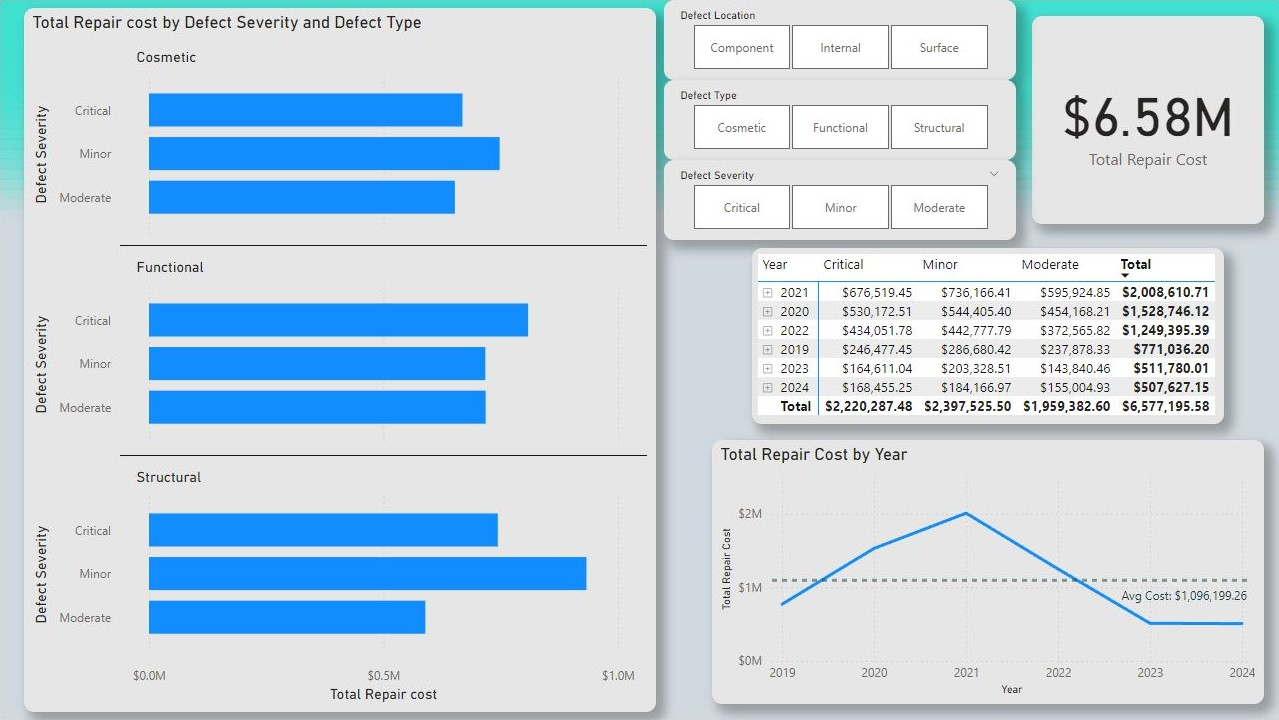

This screenshot's page, from the dashboard's own definition file:
{"tool":"powerbi","page":{"name":"Cost Report","canvas":[1280,720],"ordinal":1},"visuals":[{"type":"clusteredBarChart","fields":{"Category":["defects_data.severity"],"Y":["Sum(defects_data.repair_cost)"],"Rows":["defects_data.defect_type"]},"box":[24,8,632,704],"z":0},{"type":"card","fields":{"Values":["Sum(defects_data.repair_cost)"]},"box":[1032,16,232,208],"z":1000},{"type":"slicer","fields":{"Values":["defects_data.defect_location"]},"box":[664,0,352,80],"z":2000},{"type":"slicer","fields":{"Values":["defects_data.defect_type"]},"box":[664,80,352,80],"z":3000},{"type":"slicer","fields":{"Values":["defects_data.severity"]},"box":[664,160,352,80],"z":4000},{"type":"pivotTable","fields":{"Values":["Sum(defects_data.repair_cost)"],"Rows":["defects_data.defect_date.Variation.Date Hierarchy.Year","defects_data.defect_date.Variation.Date Hierarchy.Month"],"Columns":["defects_data.severity"]},"box":[752,248,472,176],"z":5000},{"type":"lineChart","fields":{"Category":["defects_data.defect_date.Variation.Date Hierarchy.Year"],"Y":["Sum(defects_data.repair_cost)"]},"box":[712,440,552,264],"z":6000}]}

Visuals, with their boxes in screenshot pixels (x1, y1, x2, y2), scaled from the page's 1280x720 canvas onto the 1279x720 screenshot:
clusteredBarChart - defects_data.severity x Sum(defects_data.repair_cost): [left=24, top=8, right=655, bottom=712]
card - Sum(defects_data.repair_cost): [left=1031, top=16, right=1263, bottom=224]
slicer - defects_data.defect_location: [left=663, top=0, right=1015, bottom=80]
slicer - defects_data.defect_type: [left=663, top=80, right=1015, bottom=160]
slicer - defects_data.severity: [left=663, top=160, right=1015, bottom=240]
pivotTable - Sum(defects_data.repair_cost) x defects_data.defect_date.Variation.Date Hierarchy.Year: [left=751, top=248, right=1223, bottom=424]
lineChart - defects_data.defect_date.Variation.Date Hierarchy.Year x Sum(defects_data.repair_cost): [left=711, top=440, right=1263, bottom=704]
